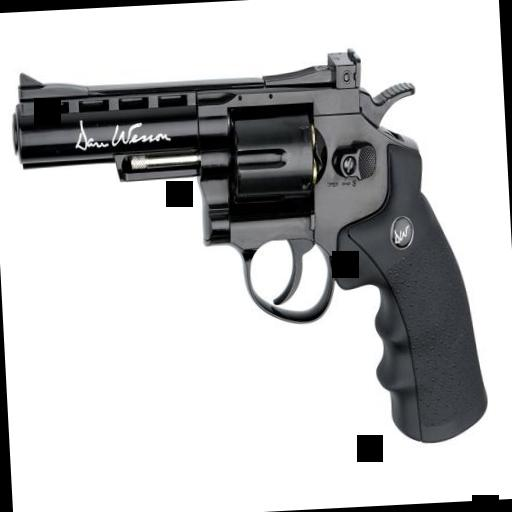Handgun: (8, 40, 490, 472)
